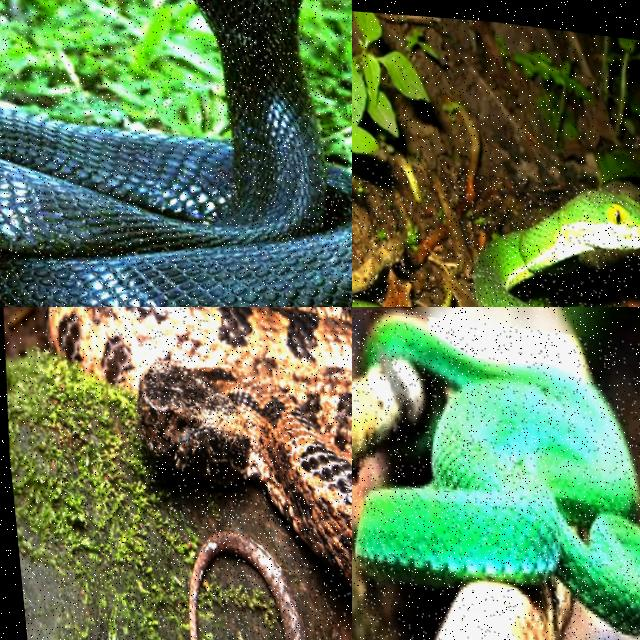Naja kaouthia: (0, 0, 351, 306)
Ovophis monticola: (45, 307, 351, 586)
Trimeresurus: (474, 190, 639, 306)
Trimeresurus macrops: (355, 313, 639, 635)
snake: (0, 0, 351, 306), (355, 313, 639, 635), (45, 307, 351, 586), (474, 190, 639, 306)
